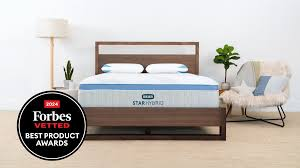bed-matress: (77, 69, 221, 108)
